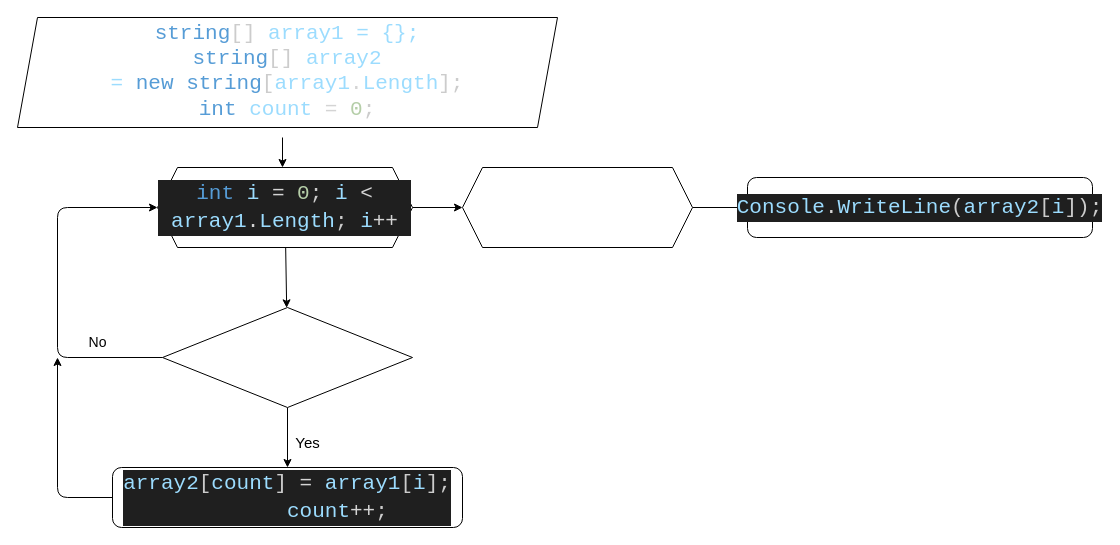
The diagram is 1120 pixels wide and 545 high, and some of its shapes have lost their labels. Here are the shapes that lost their labels. From the top down, the box of each, then its label:
(462, 166, 692, 248): int i = 0 ; i < array2 . Length ; i ++
(162, 306, 412, 408): array1 [ i ] . Length <= 3
